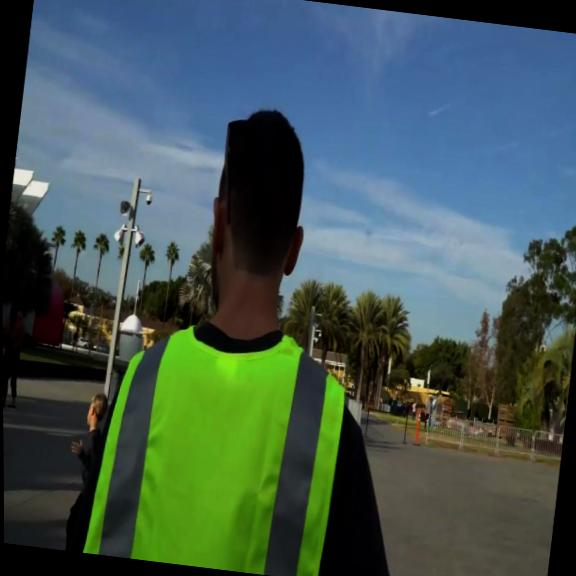safety_vest: (79, 309, 353, 576)
